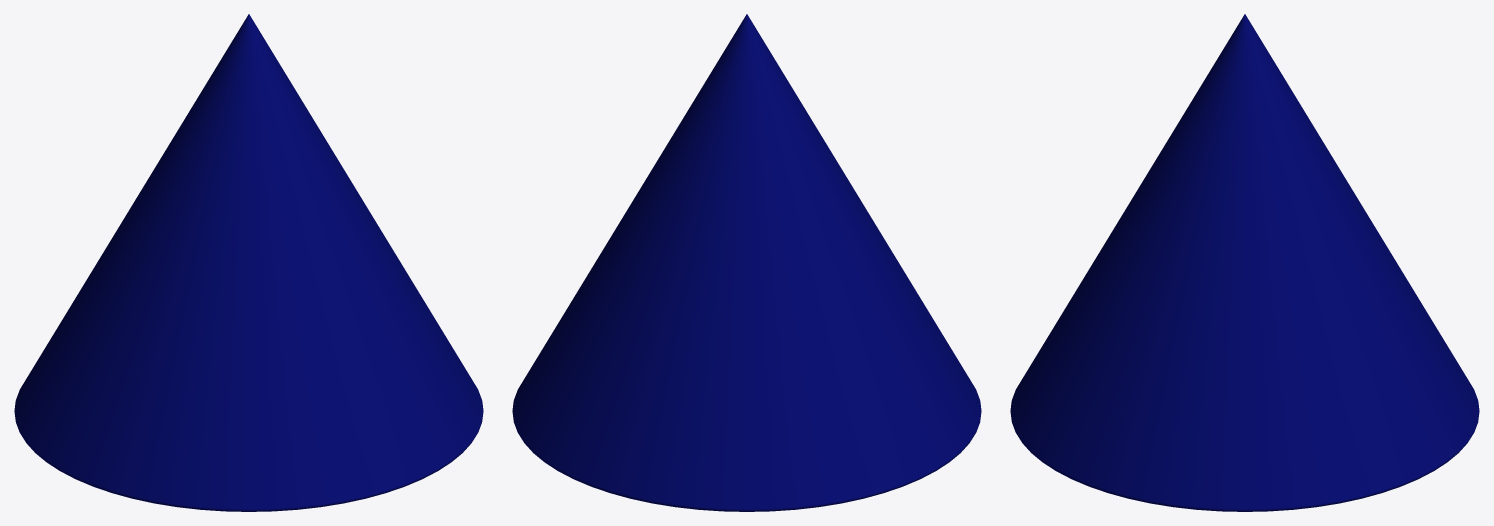
3 renders of one model, left to right at view 1: azimuth 30°, elevation 25°; view 2: azimuth 150°, elevation 25°; view 3: azimuth 270°, elevation 25°, orthographic.
Parts seen in each view (by area): view 1: node_id30; view 2: node_id30; view 3: node_id30.
Boxes of the visible parts, x1=… form: node_id30: x1=14, y1=14, x2=483, y2=511; node_id30: x1=512, y1=14, x2=981, y2=511; node_id30: x1=1010, y1=14, x2=1479, y2=511.
Bounding box in the file's own units: 0.512 × 0.4814 × 0.512.
1 material, 1 textured.
